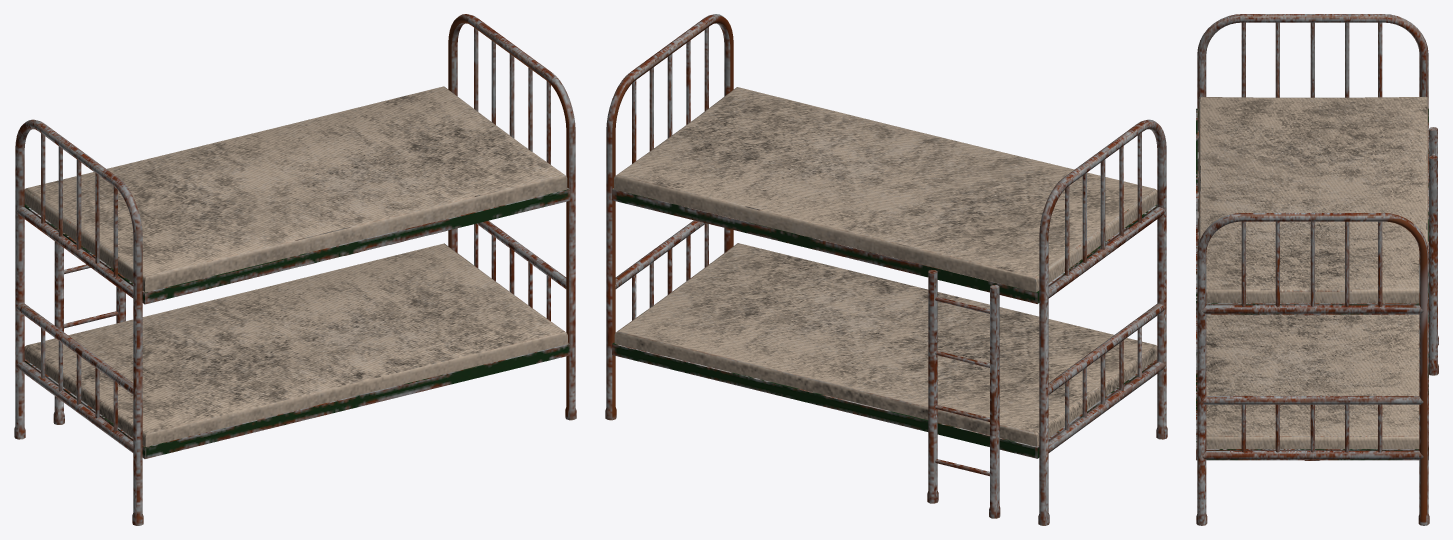
Rendered from prison_bunk_bed.glb.
3 views of the same model, side by side, from view 1: azimuth 30°, elevation 25°; view 2: azimuth 150°, elevation 25°; view 3: azimuth 270°, elevation 25° (orthographic). The views are drawn at different scales.
Visible parts, largest first — view 1: Object_2; view 2: Object_2; view 3: Object_2.
Part boxes in pixels (x1,y1,x2,y2): Object_2: (14,14,576,525); Object_2: (605,14,1167,525); Object_2: (1196,14,1438,525).
Bounding box in the file's own units: 2.1 × 1.49 × 1.06.
1 material, 1 textured.
